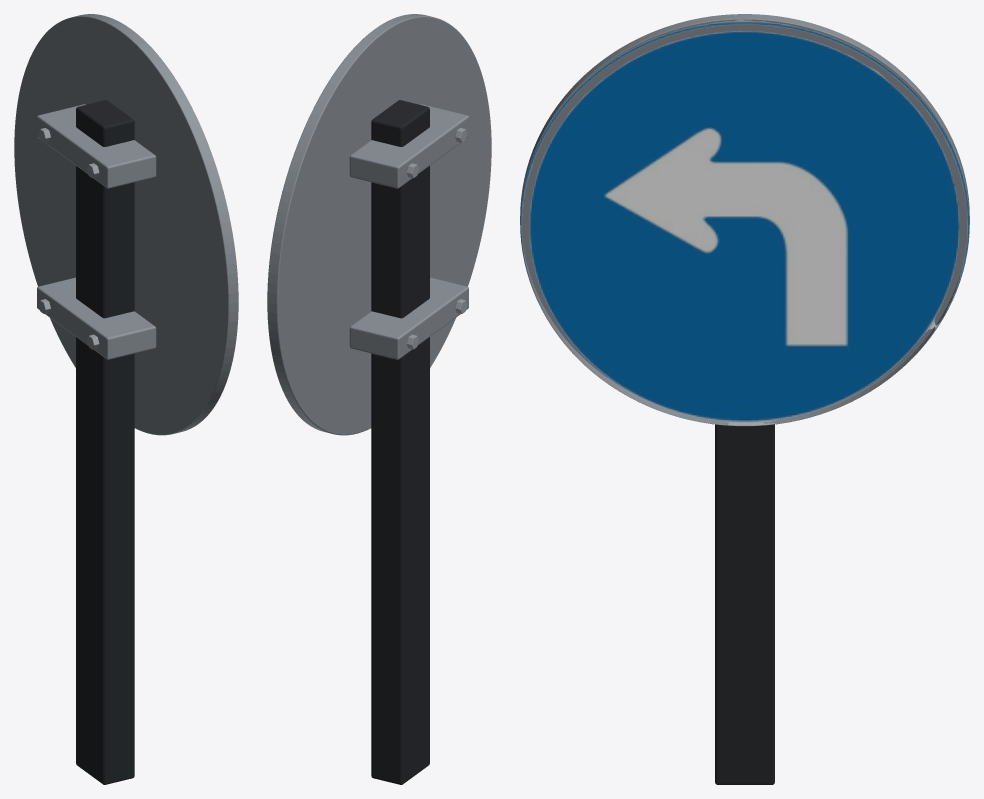
File: left_sign_visual.dae
3 views of the same model, side by side, from view 1: azimuth 30°, elevation 25°; view 2: azimuth 150°, elevation 25°; view 3: azimuth 270°, elevation 25° (orthographic). The views are drawn at different scales.
Visible parts, largest first — view 1: g1, g3, g0; view 2: g1, g3, g0; view 3: g2, g3, g1.
Part boxes in pixels (<box>): g1: <box>14,14,238,435</box>; g3: <box>76,100,134,784</box>; g0: <box>38,128,99,349</box>; g1: <box>267,14,491,435</box>; g3: <box>371,100,429,784</box>; g0: <box>406,128,467,349</box>; g2: <box>520,20,969,425</box>; g3: <box>715,424,774,784</box>; g1: <box>520,14,969,426</box>.
Size of the model in its own units: 0.0186 by 0.1054 by 0.1996.
4 materials, 1 textured.
